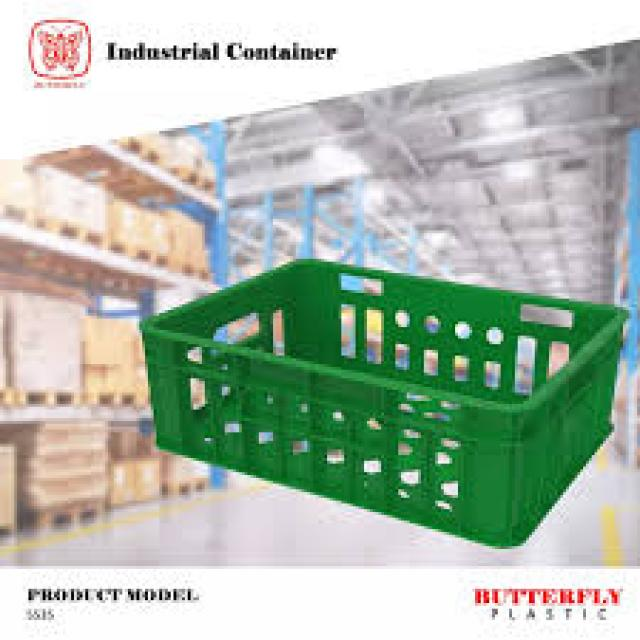basket: (118, 241, 632, 559)
